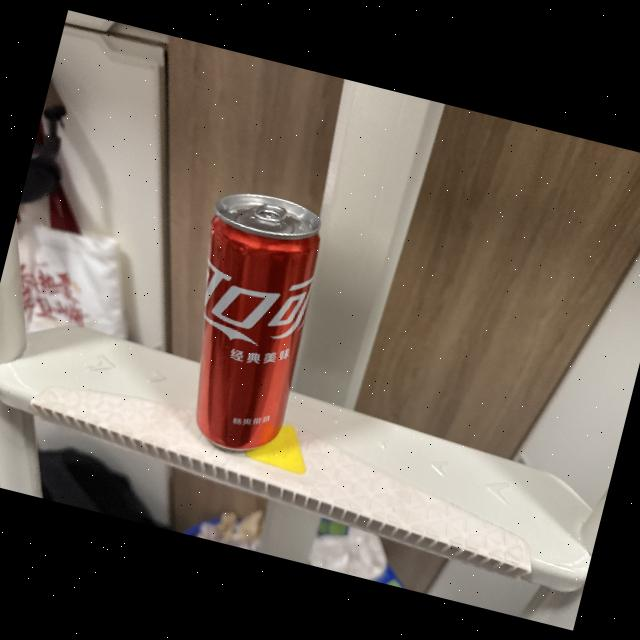Cola: (153, 180, 343, 467)
